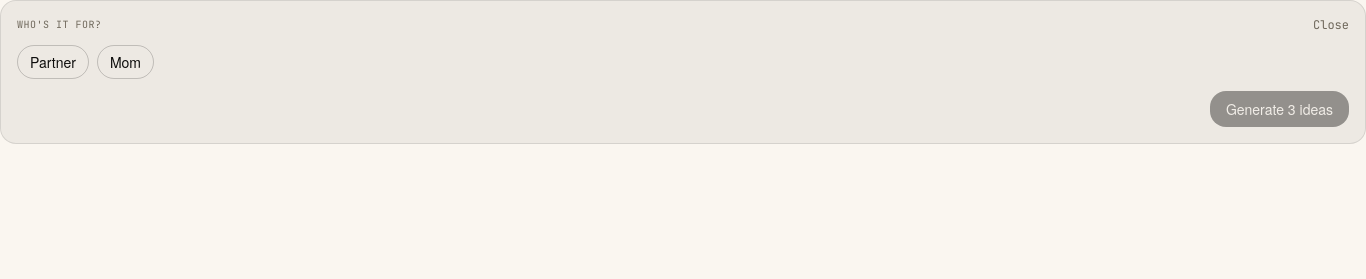
Scenario: CardMessageAssist › retry reuses the previously selected relation
Click the button "Mom" at (125, 62), box [97,45,154,79]
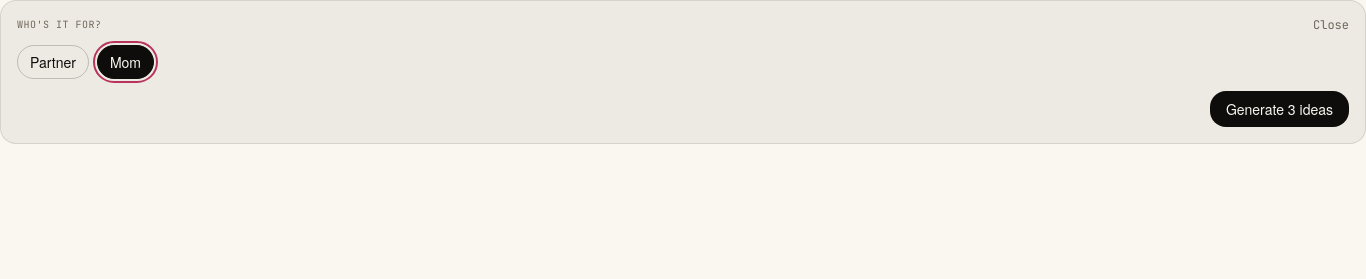
Click the button "Generate 3 ideas" at (1279, 109), box [1210,91,1349,127]
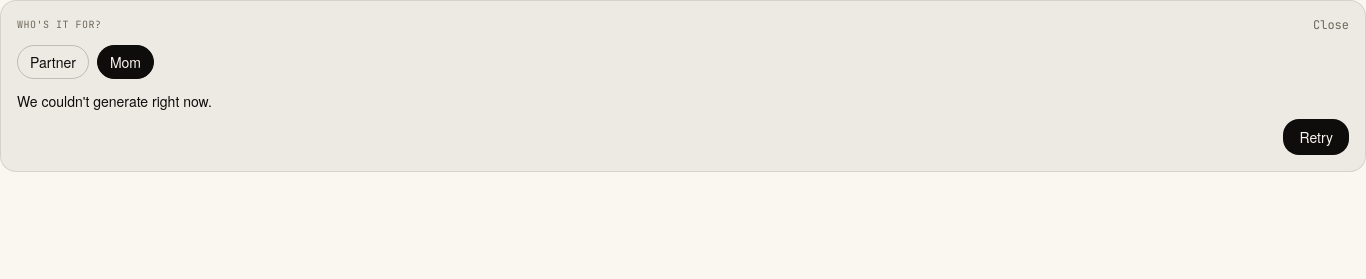
Expected: the text "We couldn't generate right now." is shown, [17,91,212,111]
Click the button "Retry" at (1316, 137), box [1284,119,1349,155]
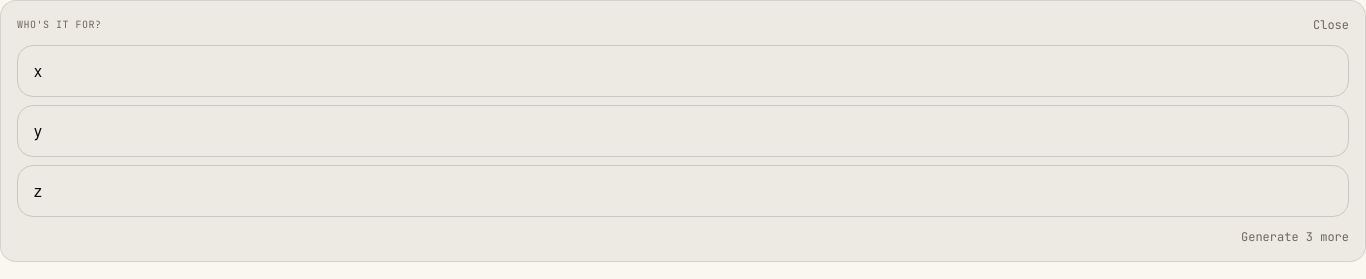
Expected: the button "x" is shown, [17,45,1349,97]
